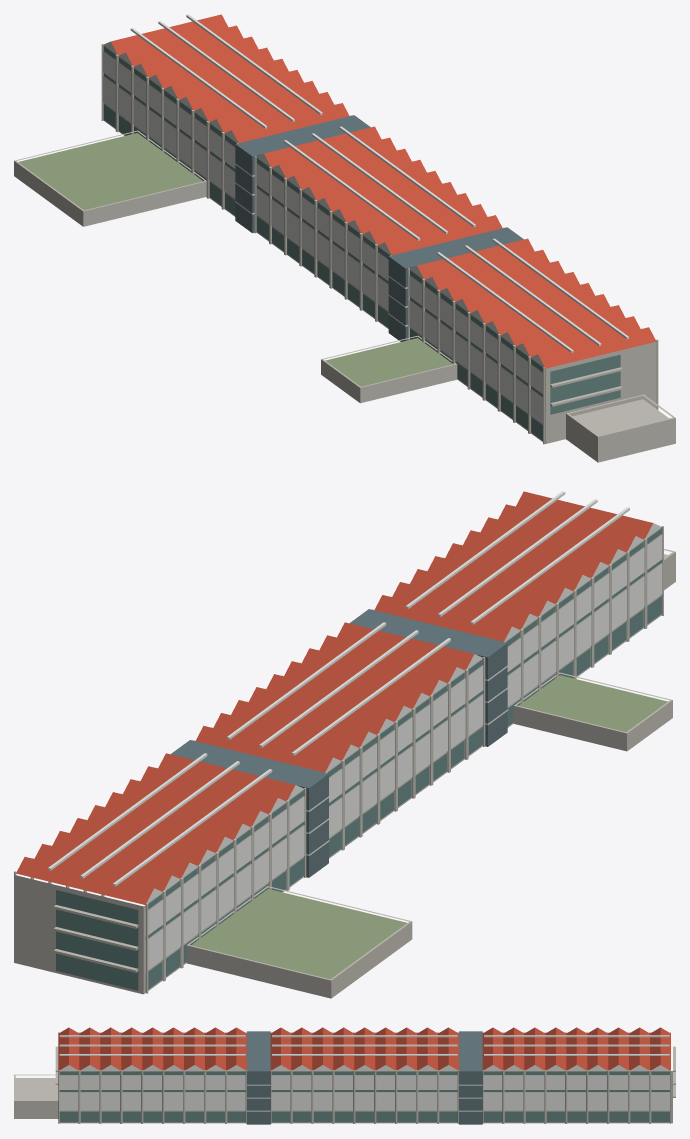
File: mexico-city-biblioteca-vasconcelos.glb
3 views of the same model, one above another, from view 1: azimuth 30°, elevation 25°; view 2: azimuth 150°, elevation 25°; view 3: azimuth 270°, elevation 25° (orthographic). The views are drawn at different scales.
Parts seen in each view (by area): view 1: Biblioteca Vasconcelos; view 2: Biblioteca Vasconcelos; view 3: Biblioteca Vasconcelos.
Part boxes in pixels (x1,y1,x2,y2): Biblioteca Vasconcelos: [14, 14, 675, 462]; Biblioteca Vasconcelos: [14, 491, 675, 998]; Biblioteca Vasconcelos: [14, 1027, 675, 1124].
Size of the model in its own units: 73.1 by 25.1 by 253.
